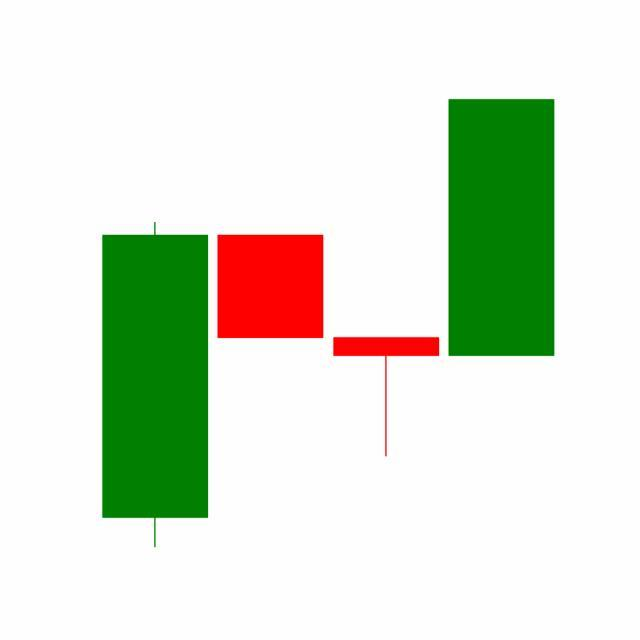Hanging Man: (329, 337, 445, 460)
